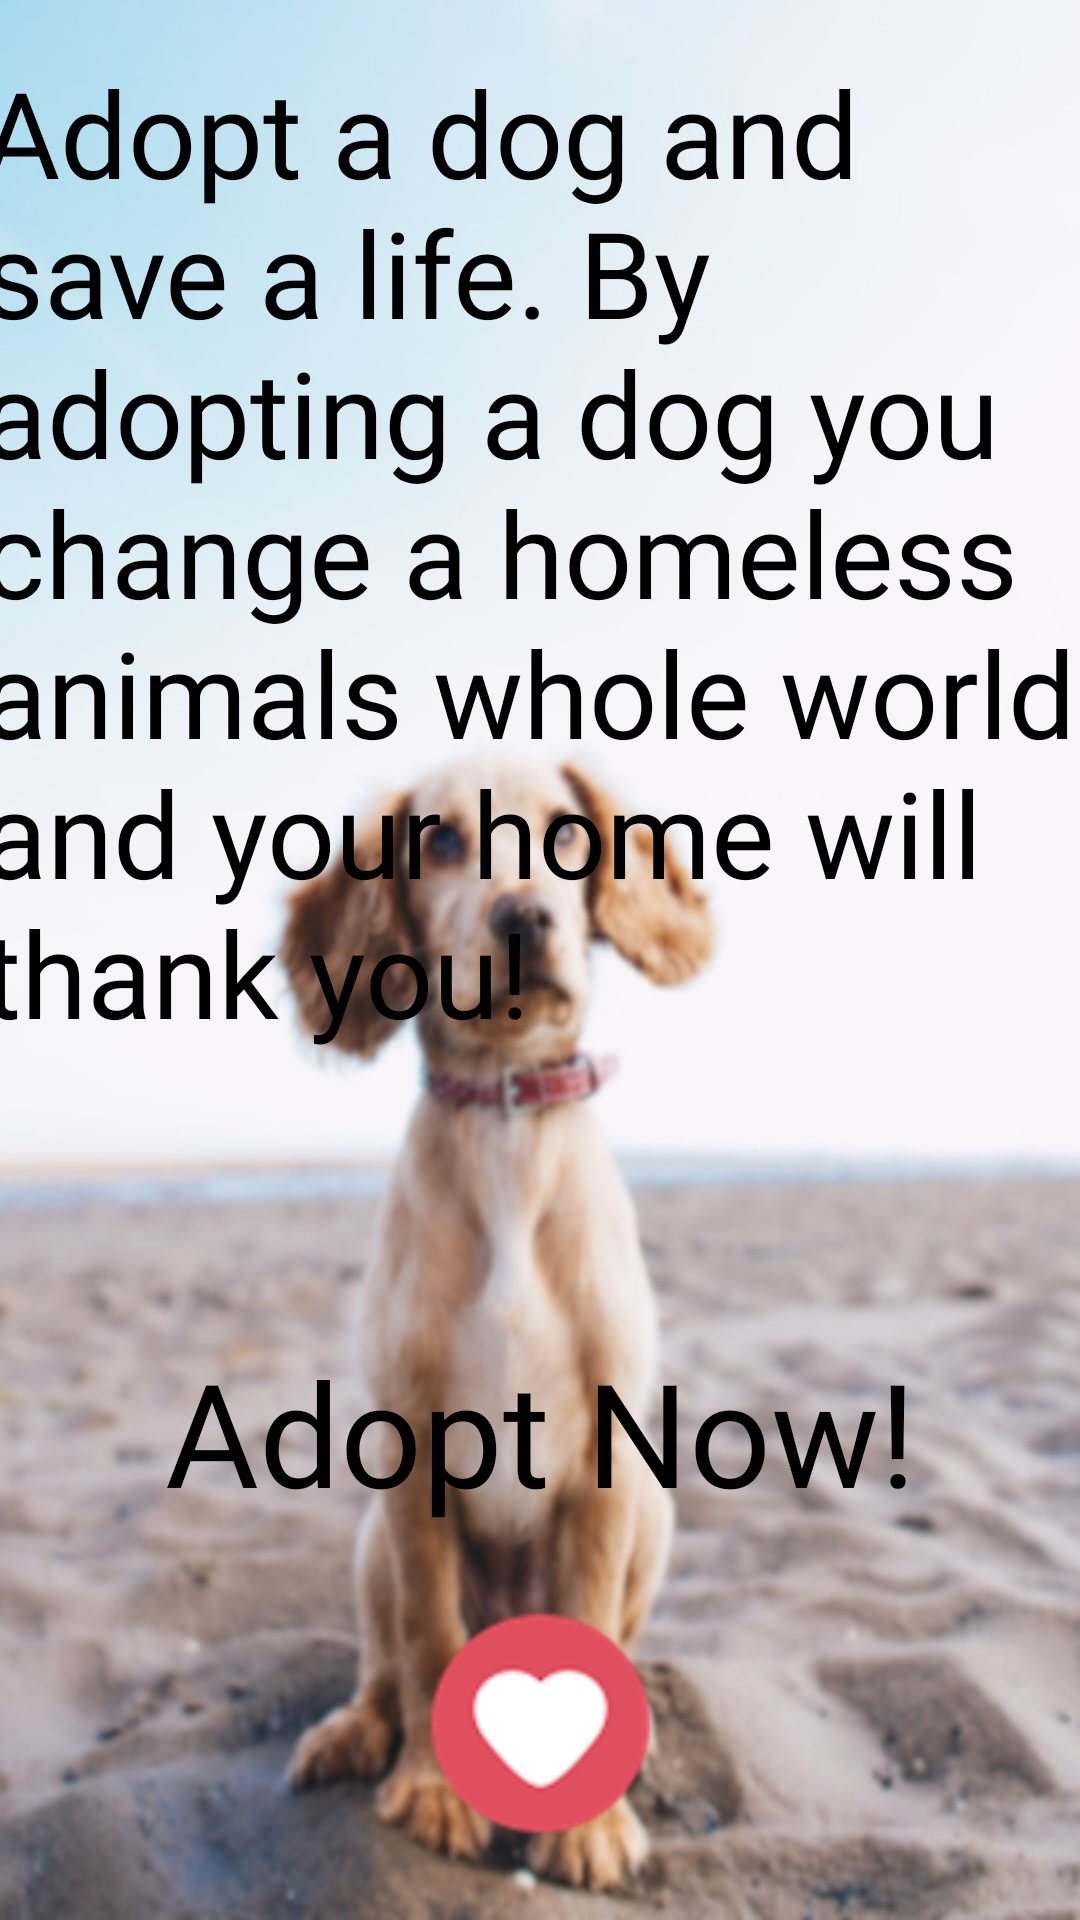

Icons on this 1080px x 1920px Android screen, each with the point to tap as (x,y):
heart: (540,1723)
